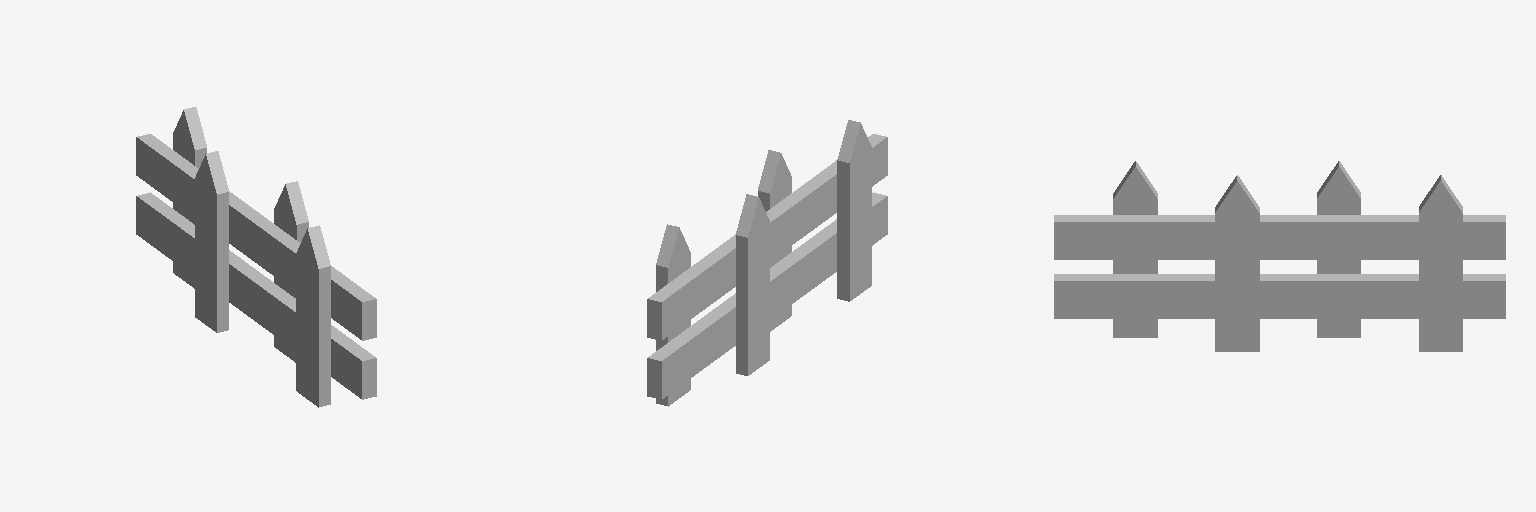
Rendered from FenceButButSmaller.obj.
3 renders of one model, left to right at view 1: azimuth 30°, elevation 25°; view 2: azimuth 150°, elevation 25°; view 3: azimuth 270°, elevation 25°, orthographic.
Visible parts, largest first — view 1: FenceButBad; view 2: FenceButBad; view 3: FenceButBad.
Boxes of the visible parts, x1=… form: FenceButBad: x1=136, y1=107, x2=376, y2=407; FenceButBad: x1=647, y1=120, x2=887, y2=406; FenceButBad: x1=1054, y1=161, x2=1505, y2=351.
Bounding box in the file's own units: 0.0992 × 0.3933 × 0.9405.